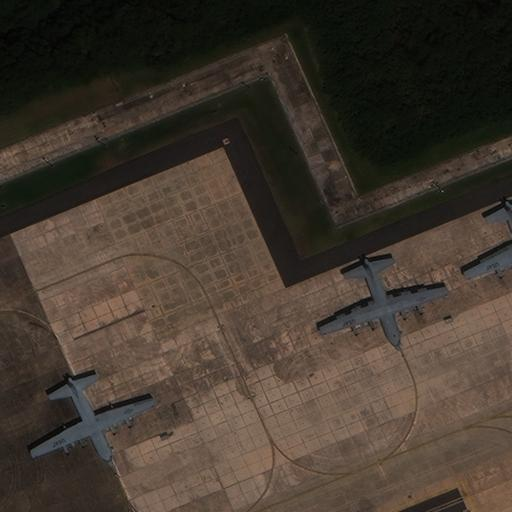Military Transport: (323, 256, 451, 350), (35, 378, 156, 462), (468, 201, 512, 283)
